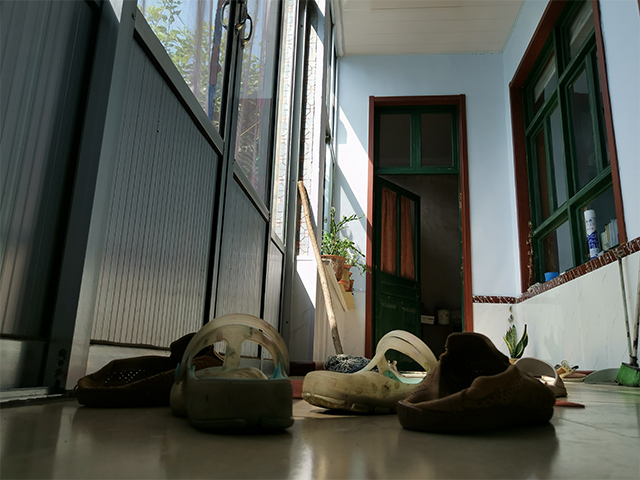slippers: (168, 310, 295, 433), (299, 328, 442, 415)
